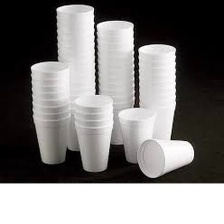paper_cup: (53, 1, 97, 155), (92, 17, 137, 147), (136, 40, 179, 160), (28, 57, 74, 167), (70, 93, 118, 174), (133, 135, 196, 181), (117, 103, 159, 166)
